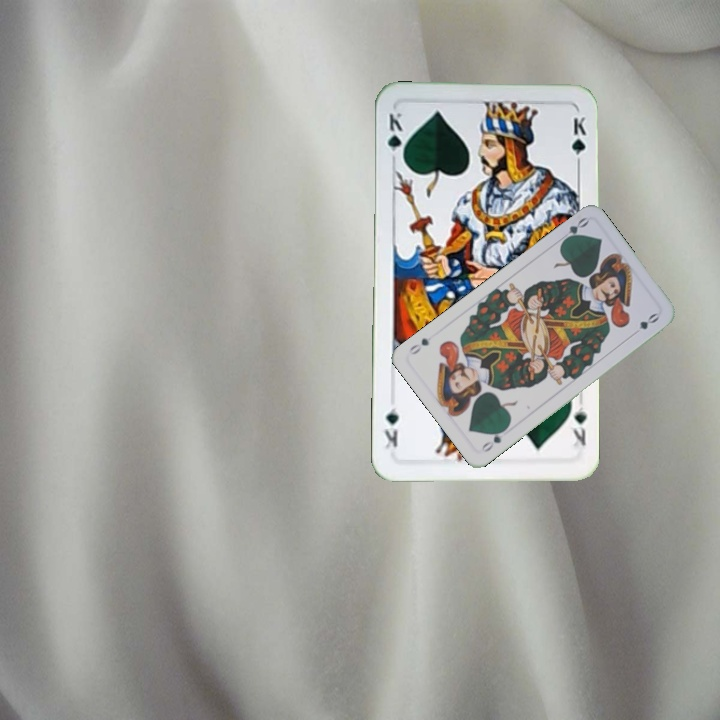GK: (383, 108, 406, 165), (566, 402, 589, 450)
GO: (555, 213, 591, 246), (477, 423, 510, 455)
